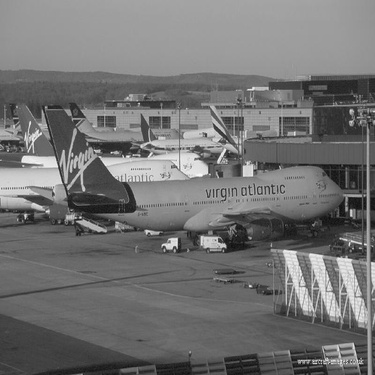airplane: (28, 96, 340, 240)
